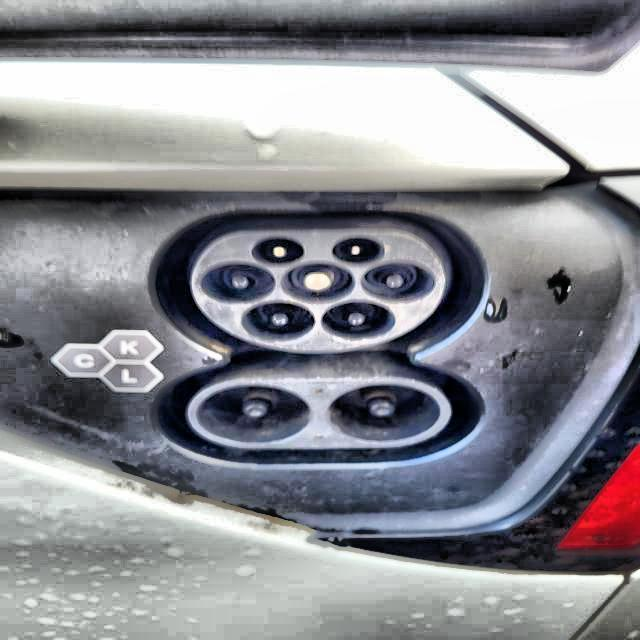inlet: (191, 228, 446, 353)
inlet-above-left: (252, 237, 304, 264)
inlet-above-right: (333, 237, 385, 264)
inlet-below-left: (241, 302, 315, 341)
inlet-below-right: (321, 301, 394, 339)
inlet-center: (281, 263, 353, 301)
inlet-center-left: (200, 263, 275, 302)
inlet-center-right: (362, 263, 435, 301)
